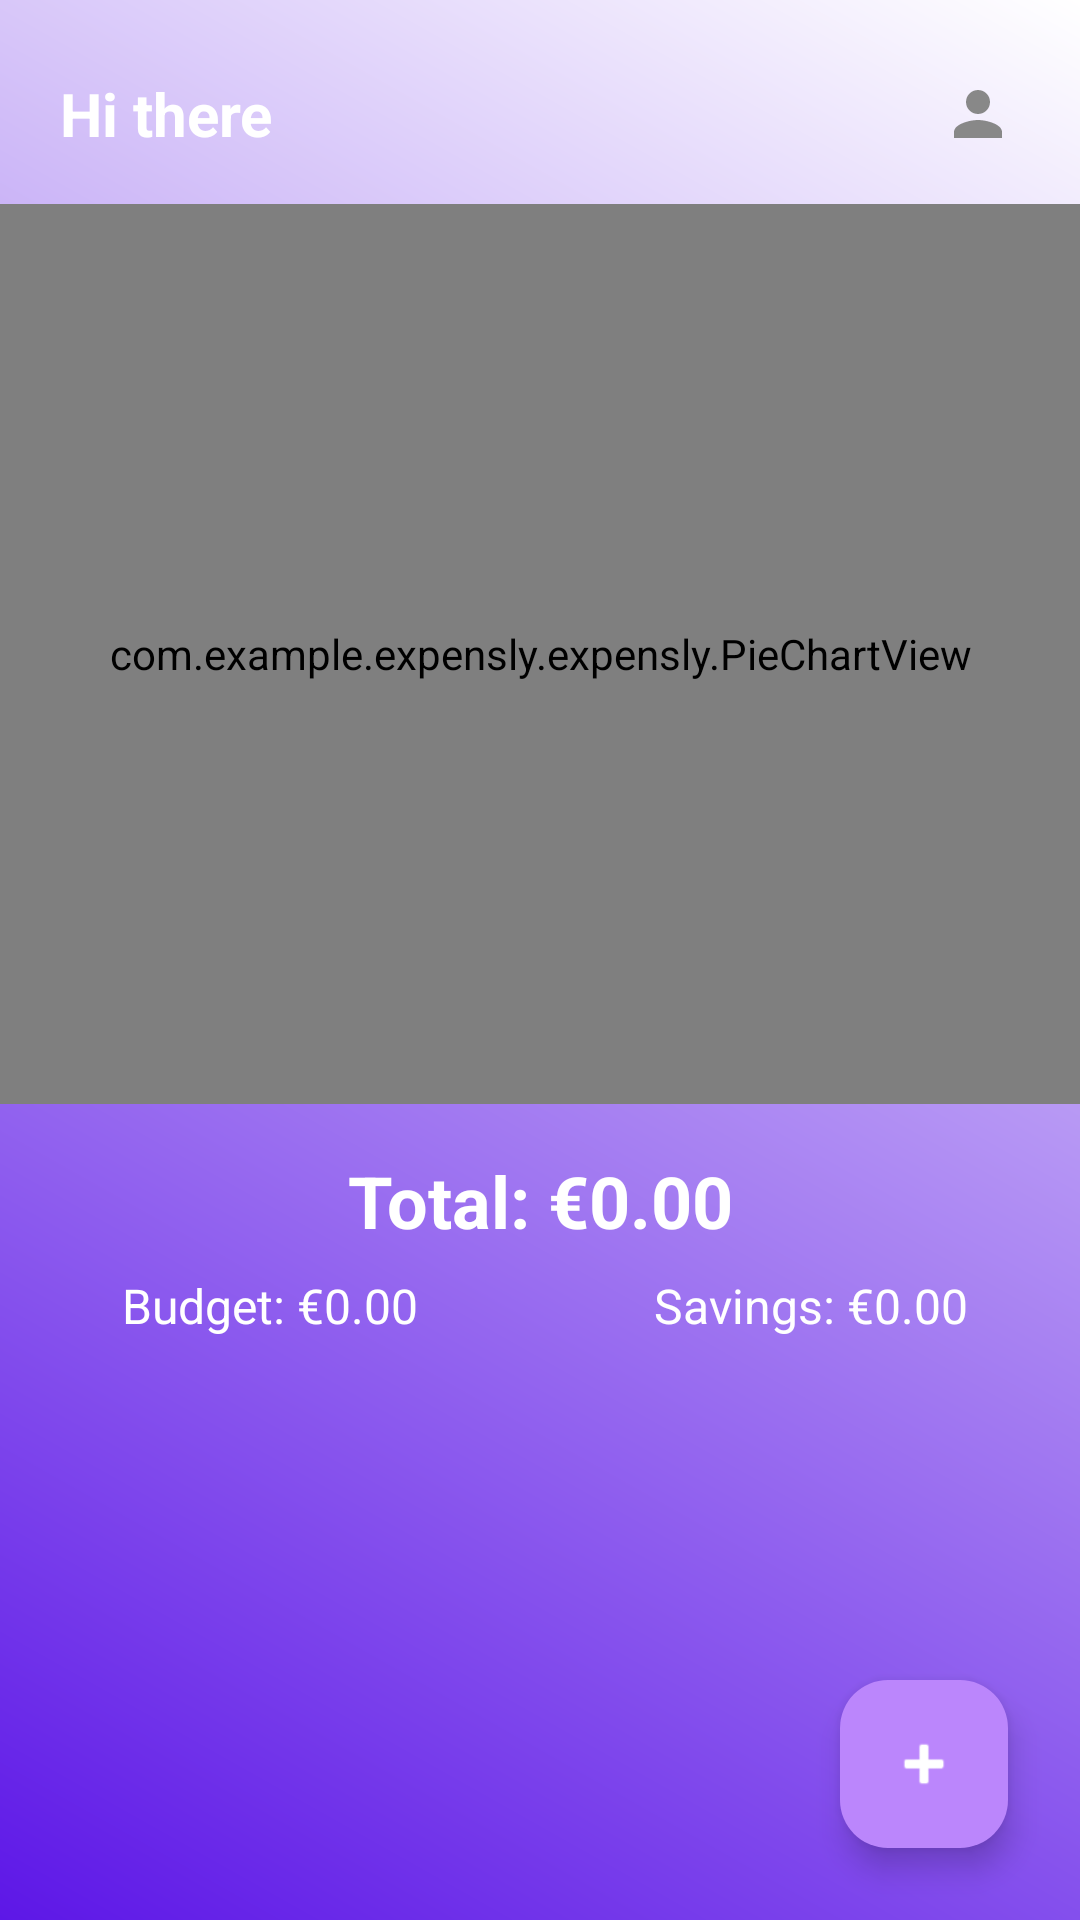

Locate icon controls on the screen. Image size 1080 x 1920, boxes as BBox(x1, y1, x2, y2).
add: BBox(840, 1680, 1008, 1848)
Profile: BBox(954, 90, 1002, 138)
